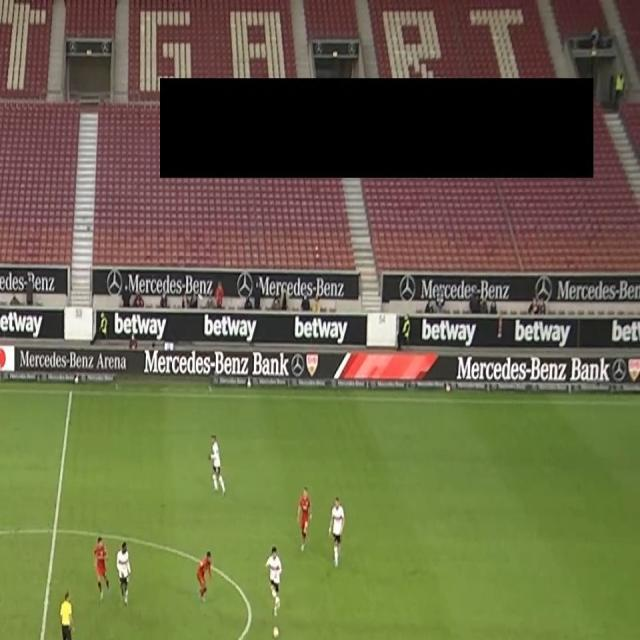ball: (270, 623, 280, 640)
